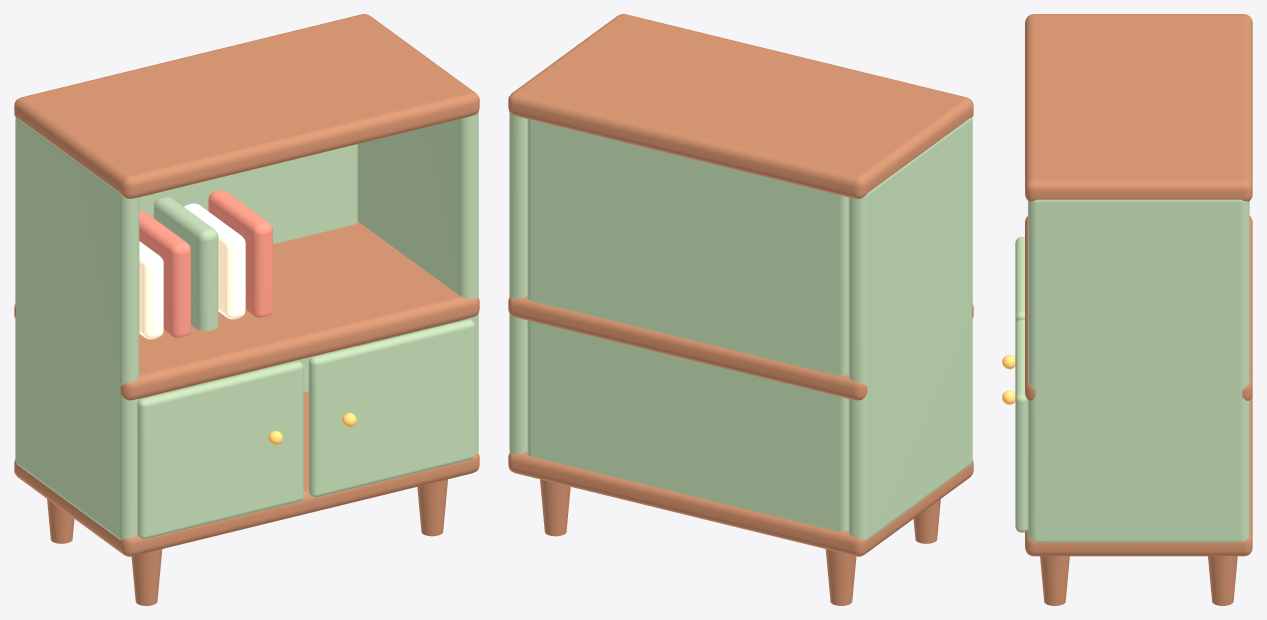
The model's file is moss_cabinet.glb.
3 renders of one model, left to right at view 1: azimuth 30°, elevation 25°; view 2: azimuth 150°, elevation 25°; view 3: azimuth 270°, elevation 25°, orthographic.
Visible parts, largest first — view 1: moss_cabinet; view 2: moss_cabinet; view 3: moss_cabinet.
Boxes of the visible parts, x1,y1,x2,y2 form: moss_cabinet: (14,14,479,605); moss_cabinet: (508,14,973,605); moss_cabinet: (1002,14,1252,605).
Bounding box in the file's own units: 0.681 × 0.801 × 0.418.
